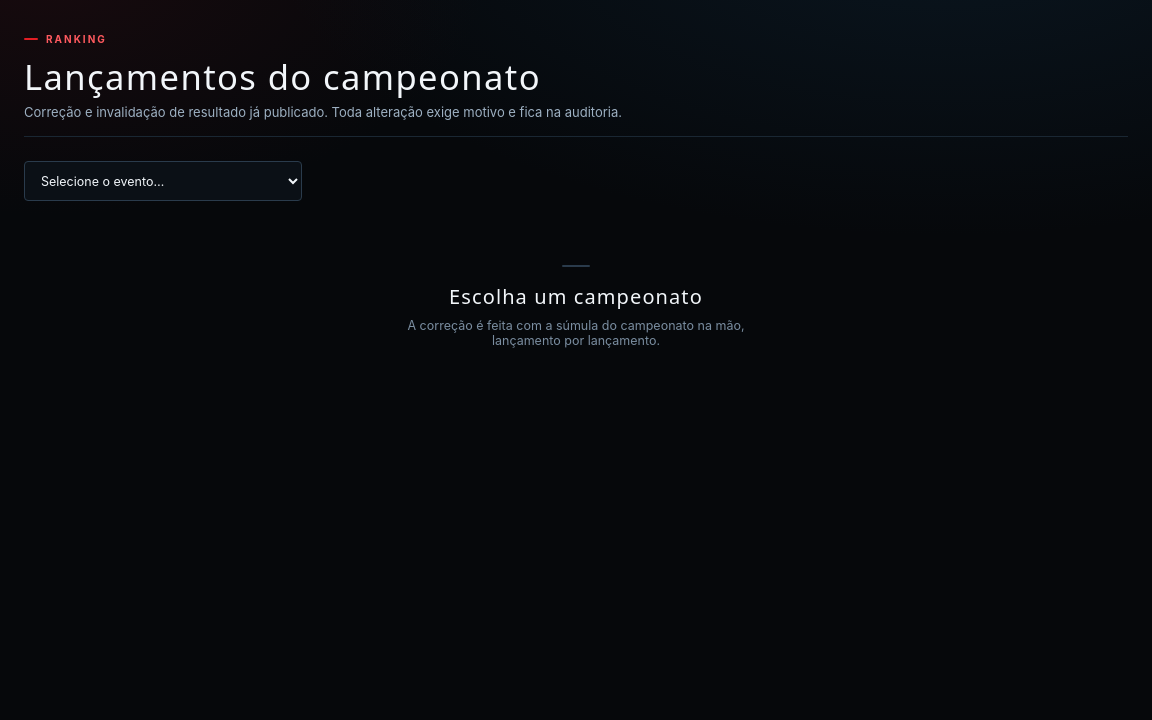
invalidar e restaurar › restaurar mostra por que foi invalidado e exige motivo próprio
Later steps or results of the test are not shown.
Select "Etapa Cuiabá — Resultados publicados" in the dropdown named "selecionar evento" at (163, 181), box left=24, top=161, right=302, bottom=201
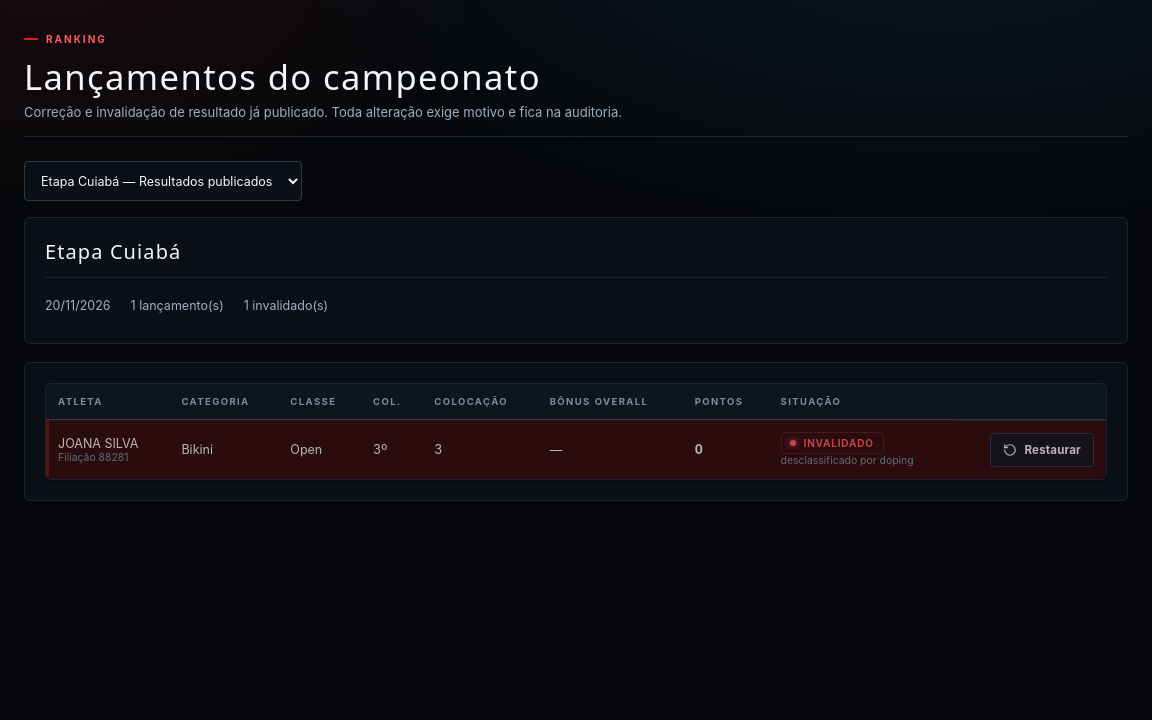
Click the button "Restaurar" at (1042, 450), box left=990, top=433, right=1094, bottom=467
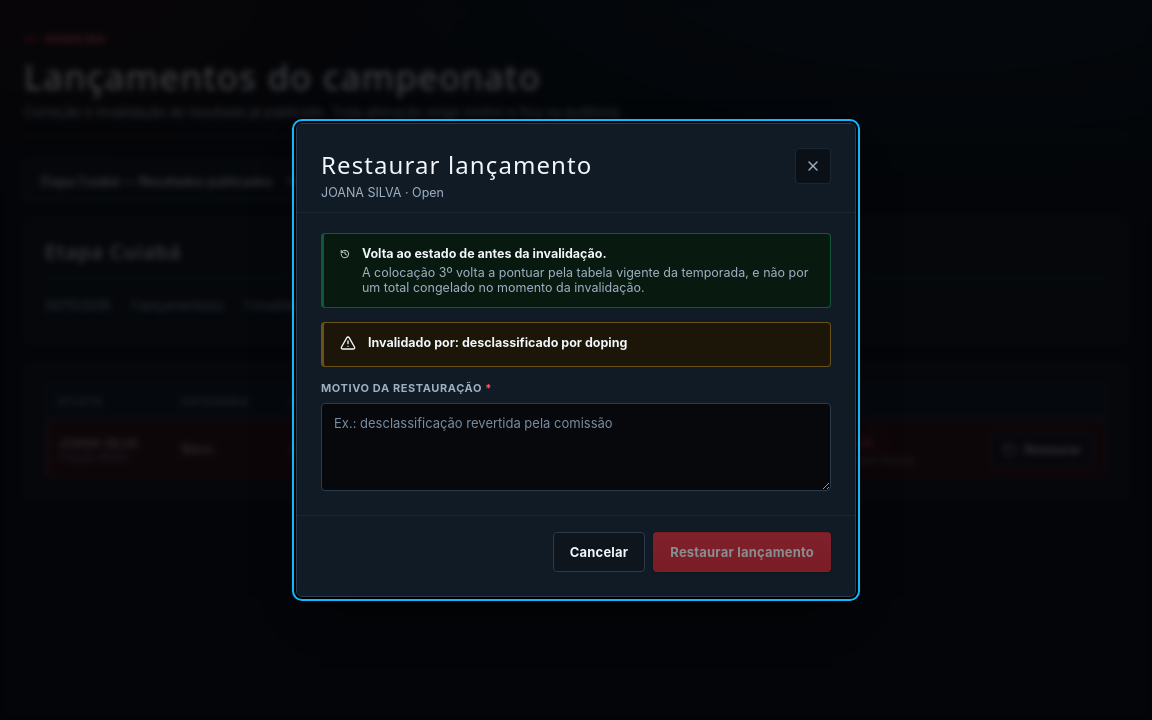
Expected: the text "Invalidado por: desclassificado por doping" is shown, left=368, top=335, right=627, bottom=350
Expected: the button "Restaurar lançamento" is disabled, left=653, top=532, right=831, bottom=572
